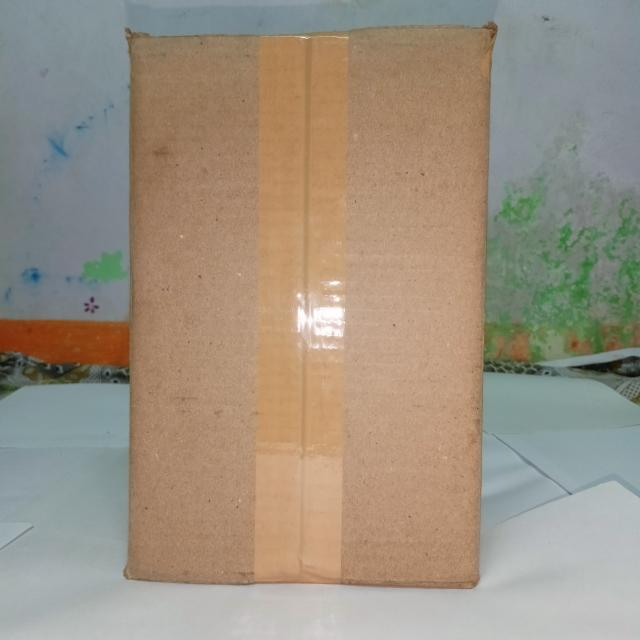box: (123, 25, 499, 594)
